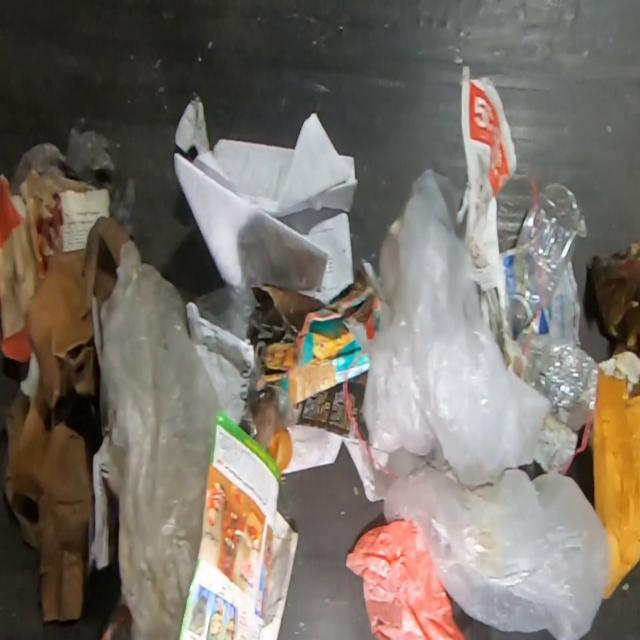cardboard: (2, 215, 129, 621), (246, 256, 383, 406), (0, 169, 101, 369), (592, 365, 640, 603), (587, 239, 640, 349)
rigid_plastic: (501, 180, 590, 338), (528, 338, 598, 432)
soft_plastic: (360, 165, 607, 640), (90, 239, 223, 640), (10, 127, 136, 239)
